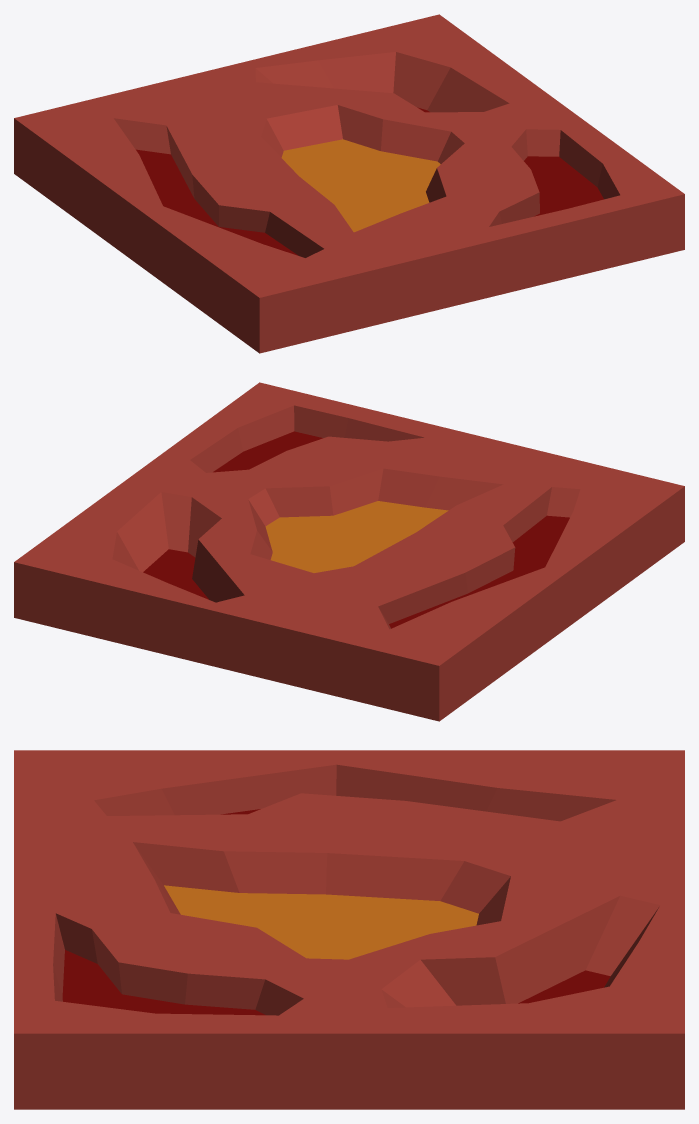
Rendered from Field_16_digged.fbx.
The picture shows the model from 3 angles, top to bottom: view 1: azimuth 30°, elevation 25°; view 2: azimuth 150°, elevation 25°; view 3: azimuth 270°, elevation 25°; orthographic projection. The views are drawn at different scales.
Visible parts, largest first — view 1: Plane.030; view 2: Plane.030; view 3: Plane.030.
Boxes of the visible parts, bbox=[...] form: Plane.030: bbox=[14, 14, 684, 353]; Plane.030: bbox=[14, 382, 684, 721]; Plane.030: bbox=[14, 750, 684, 1109].
Bounding box in the file's own units: 400 × 50 × 400.
